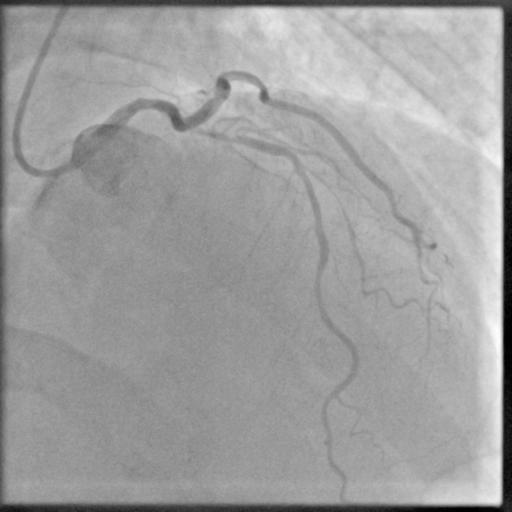Stenosis: (199, 123, 249, 143)
